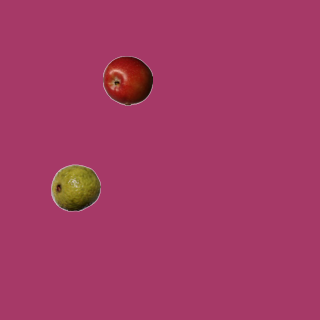Apple Braeburn: (102, 55, 152, 105)
Guava: (50, 162, 100, 212)
